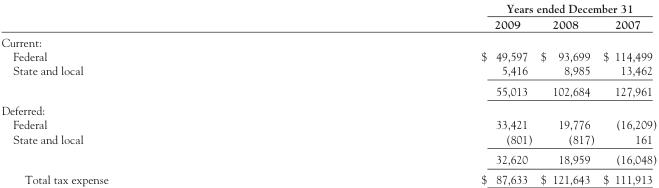table: (0, 1, 656, 185)
table column: (0, 1, 294, 185), (294, 1, 535, 185), (535, 1, 598, 185), (598, 1, 656, 185)
table column header: (0, 1, 656, 32)
table projected row header: (0, 32, 656, 48), (0, 100, 656, 116)
table row: (0, 80, 656, 100), (0, 148, 656, 168), (0, 62, 656, 80), (0, 15, 656, 32), (0, 131, 656, 148), (0, 168, 656, 185), (0, 32, 656, 48), (0, 100, 656, 116), (0, 116, 656, 131), (0, 1, 656, 15), (0, 48, 656, 62)
table spanning cell: (294, 1, 656, 15)
